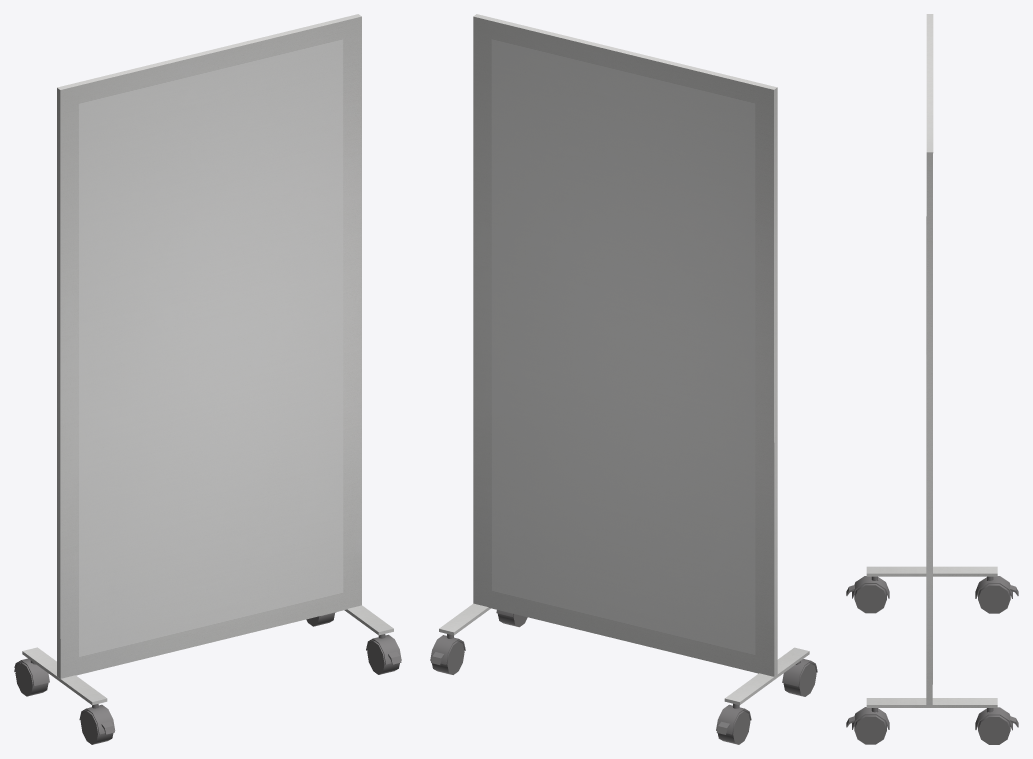
The model's file is panel_partition.fbx.
3 views of the same model, side by side, from view 1: azimuth 30°, elevation 25°; view 2: azimuth 150°, elevation 25°; view 3: azimuth 270°, elevation 25° (orthographic). The views are drawn at different scales.
Visible parts, largest first — view 1: mesh4, tire (×3); view 2: mesh4, tire (×3); view 3: mesh4, tire (×4).
Part boxes in pixels (x1,y1,x2,y2): mesh4: (22, 14, 393, 705); tire (×3): (14, 634, 401, 744); mesh4: (439, 14, 809, 705); tire (×3): (430, 635, 817, 744); mesh4: (866, 14, 997, 707); tire (×4): (846, 576, 1018, 744).
Size of the model in its own units: 100 by 200 by 52.77.
Materials: 1 (1 with a texture image).
